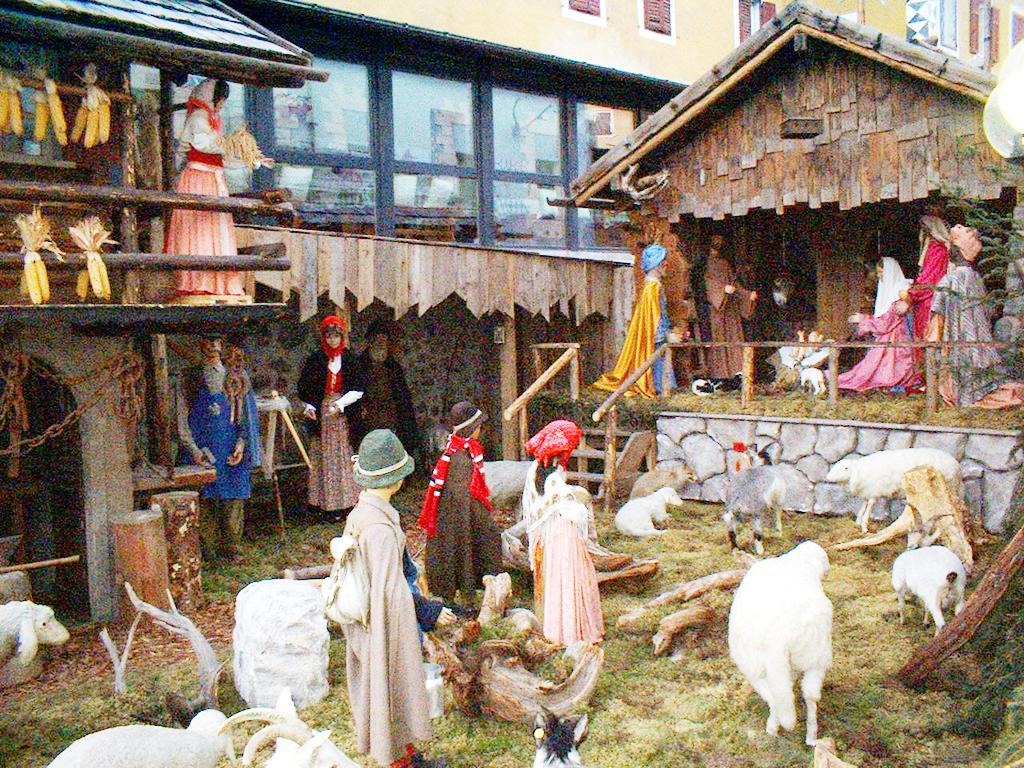Sheep: (724, 540, 838, 742), (822, 446, 966, 534), (43, 710, 235, 768), (890, 542, 966, 640), (0, 598, 74, 674), (614, 486, 684, 536)
